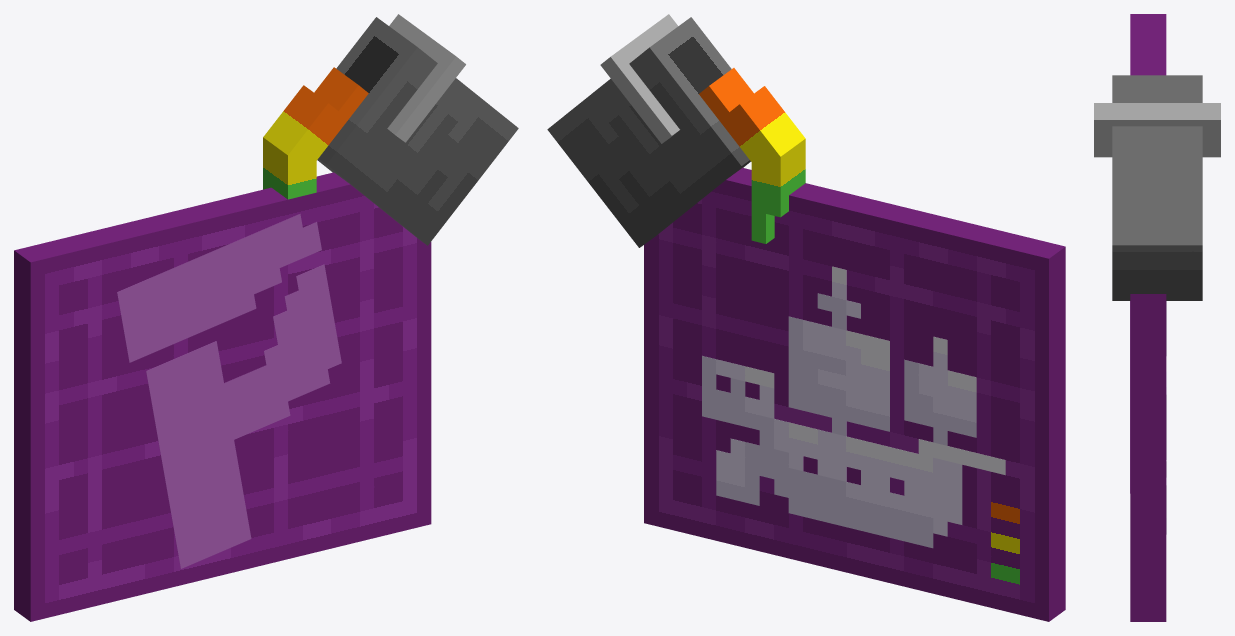
The picture shows the model from 3 angles, left to right: view 1: azimuth 30°, elevation 25°; view 2: azimuth 150°, elevation 25°; view 3: azimuth 270°, elevation 25°; orthographic projection. The views are drawn at different scales.
Visible parts, largest first — view 1: plan-Local, backp-Local, paint-Local, drip-Local; view 2: plan-Local, icon-Local, paint-Local, drip-Local; view 3: paint-Local, plan-Local, icon-Local.
Part boxes in pixels (box(x1,y1,x2,y2)): plan-Local: box(14, 172, 431, 621); backp-Local: box(117, 214, 341, 568); paint-Local: box(263, 14, 518, 245); drip-Local: box(263, 137, 316, 199); plan-Local: box(644, 167, 1065, 621); icon-Local: box(702, 266, 1005, 548); paint-Local: box(547, 14, 805, 247); drip-Local: box(751, 139, 805, 243); paint-Local: box(1094, 75, 1220, 300); plan-Local: box(1130, 14, 1166, 621); icon-Local: box(1166, 301, 1166, 534).
Size of the model in its own units: 33.54 by 32.61 by 7.
5 materials, 5 textured.
